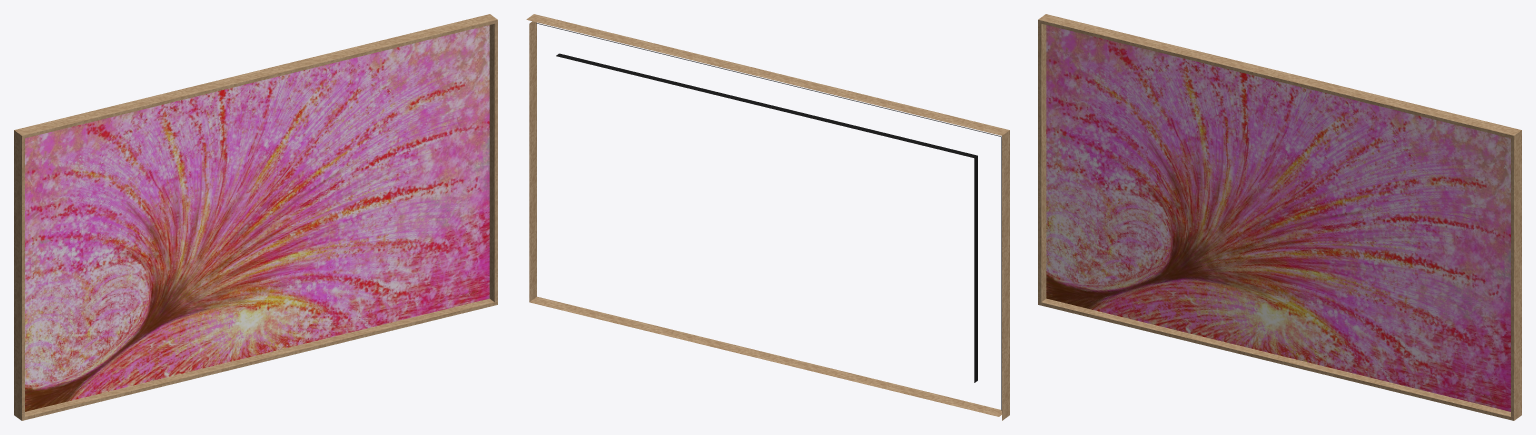
File: hz013_grand_caisse-chene.glb
3 renders of one model, left to right at view 1: azimuth 30°, elevation 25°; view 2: azimuth 150°, elevation 25°; view 3: azimuth 330°, elevation 25°, orthographic.
Parts seen in each view (by area): view 1: hz013_grand_caisse-chene; view 2: hz013_grand_caisse-chene; view 3: hz013_grand_caisse-chene.
Part boxes in pixels (left/top/right/bottom): hz013_grand_caisse-chene: left=14, top=14, right=497, bottom=420; hz013_grand_caisse-chene: left=526, top=14, right=1009, bottom=420; hz013_grand_caisse-chene: left=1038, top=14, right=1521, bottom=420.
Size of the model in its own units: 1.23 by 0.703 by 0.035.
Materials: 4 (2 with a texture image).
